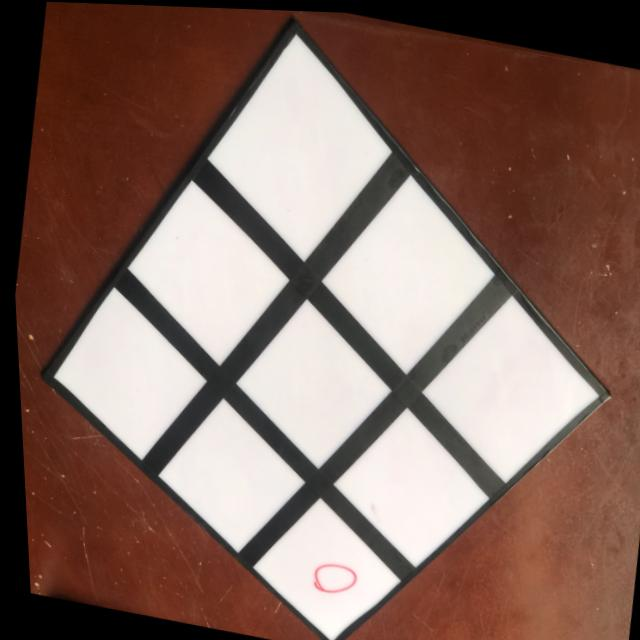null: (185, 30, 412, 262), (307, 173, 505, 373), (410, 292, 599, 481), (109, 179, 295, 366), (35, 287, 210, 462), (222, 296, 393, 467), (325, 405, 487, 568), (146, 397, 301, 552)
o: (299, 552, 358, 604)
table: (0, 17, 625, 640)
